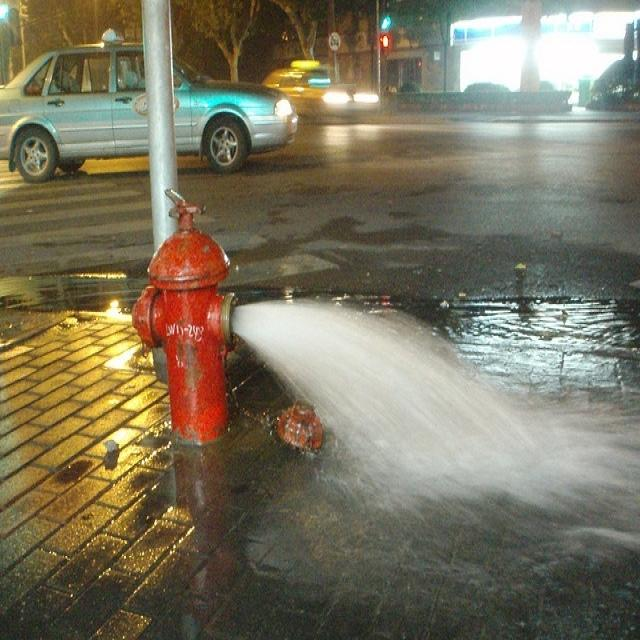fire_hydrant: (100, 172, 272, 529)
